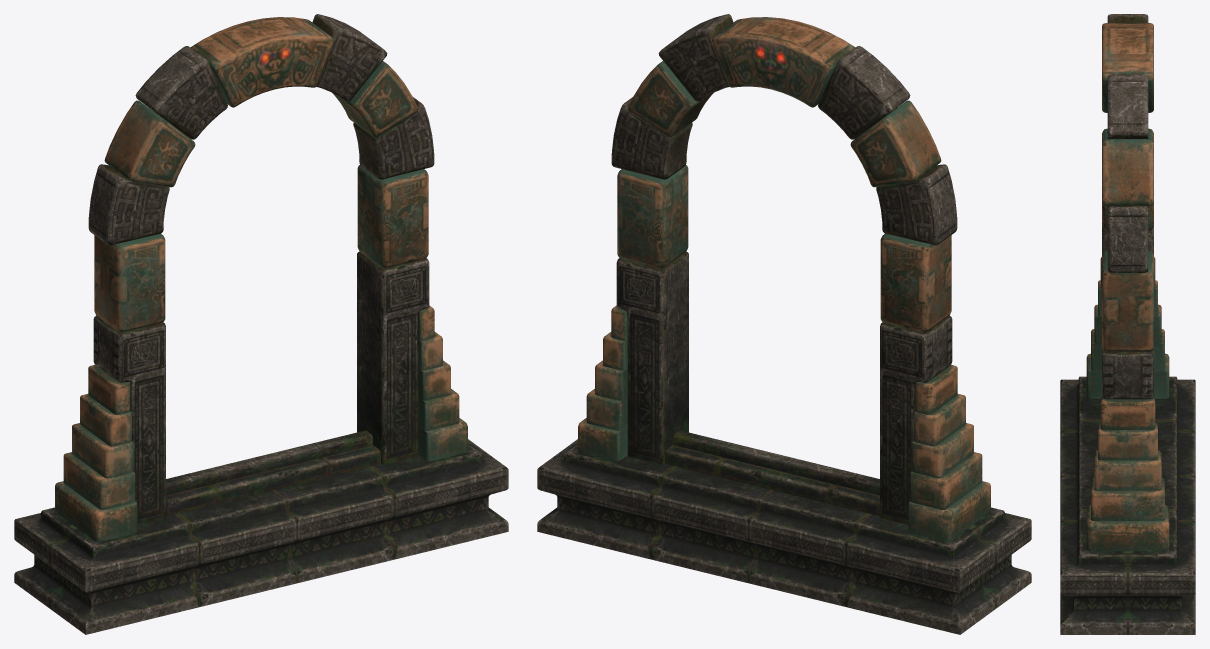
The model's file is portal.glb.
3 renders of one model, left to right at view 1: azimuth 30°, elevation 25°; view 2: azimuth 150°, elevation 25°; view 3: azimuth 270°, elevation 25°, orthographic. The views are drawn at different scales.
Visible parts, largest first — view 1: PortalFrame; view 2: PortalFrame; view 3: PortalFrame.
Boxes of the visible parts, x1=… form: PortalFrame: x1=14, y1=14, x2=508, y2=634; PortalFrame: x1=537, y1=14, x2=1031, y2=634; PortalFrame: x1=1060, y1=14, x2=1195, y2=634.
Bounding box in the file's own units: 322 × 383 × 94.06.
1 material, 1 textured.
